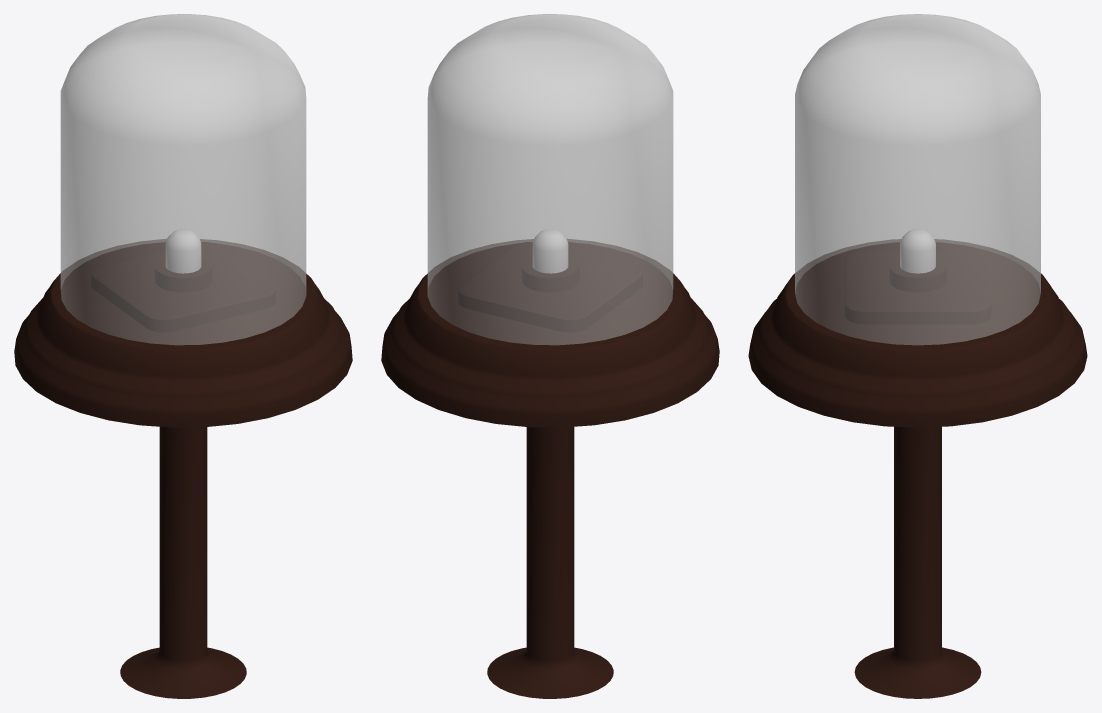
The model's file is Siren light with stove.fbx.
3 views of the same model, side by side, from view 1: azimuth 30°, elevation 25°; view 2: azimuth 150°, elevation 25°; view 3: azimuth 270°, elevation 25° (orthographic).
Visible parts, largest first — view 1: Glass, Stand, Circle, Light Bulb; view 2: Glass, Stand, Circle, Light Bulb; view 3: Glass, Stand, Circle, Light Bulb.
Boxes of the visible parts, bbox=[...] form: Glass: bbox=[60, 14, 306, 345]; Stand: bbox=[14, 239, 352, 427]; Circle: bbox=[120, 426, 246, 698]; Light Bulb: bbox=[165, 229, 201, 273]; Glass: bbox=[427, 14, 673, 345]; Stand: bbox=[381, 239, 719, 427]; Circle: bbox=[487, 426, 613, 698]; Light Bulb: bbox=[532, 229, 568, 273]; Glass: bbox=[795, 14, 1040, 345]; Stand: bbox=[748, 239, 1087, 427]; Circle: bbox=[854, 426, 981, 698]; Light Bulb: bbox=[900, 229, 935, 273].
Size of the model in its own units: 0.2 by 0.4117 by 0.2.
